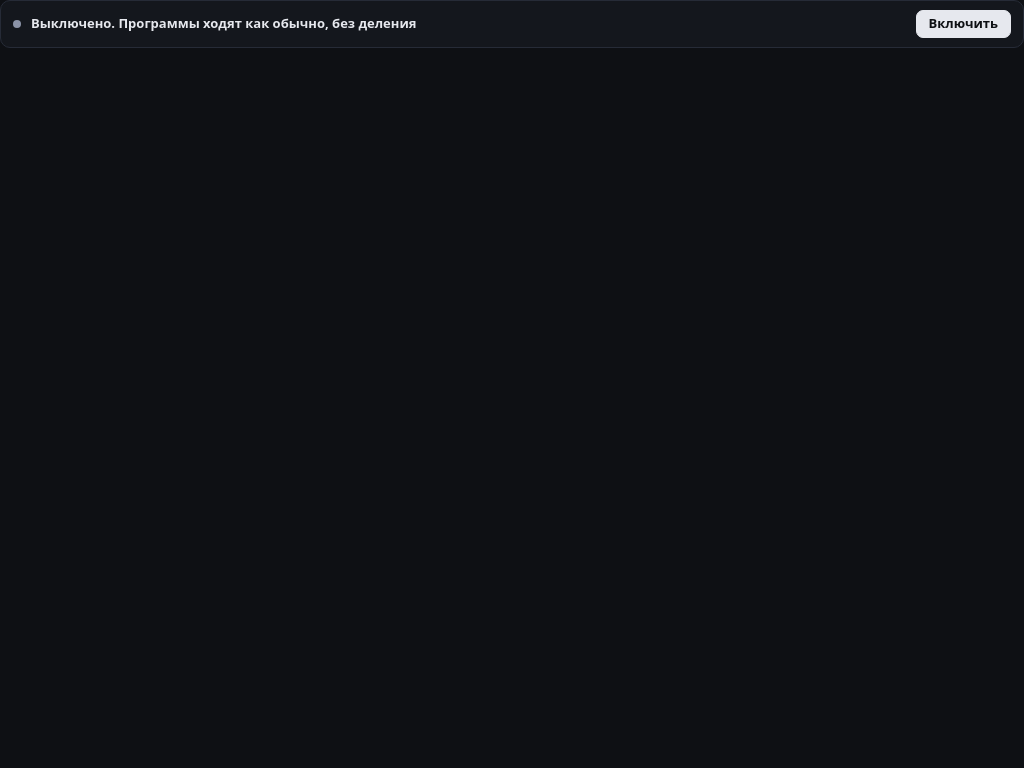
Test: a failed banner command shows the notice
The width and height of the screenshot is (1024, 768).
Click the button "Включить" at (963, 24), box [916,10,1011,38]
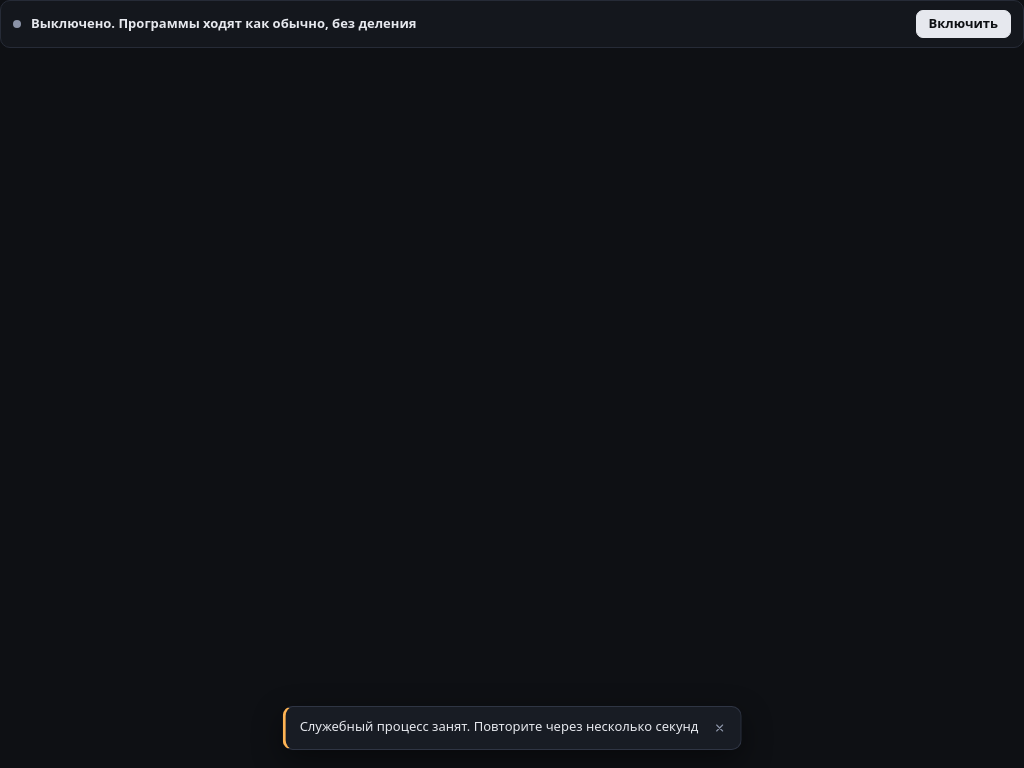
expect the text "Служебный процесс занят. Повторите через несколько секунд" is shown: met, box [300,717,698,736]
Click the button named "Закрыть" at (719, 728), box [708,717,730,739]
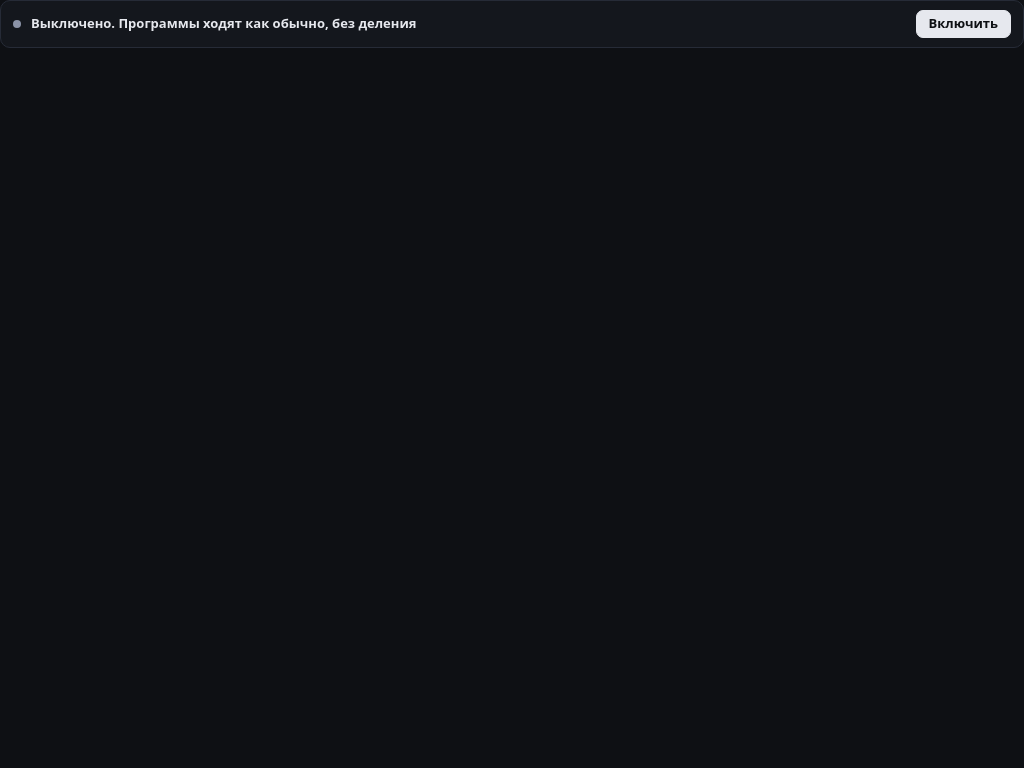
expect the text "Служебный процесс занят. Повторите через несколько секунд" is gone: met
